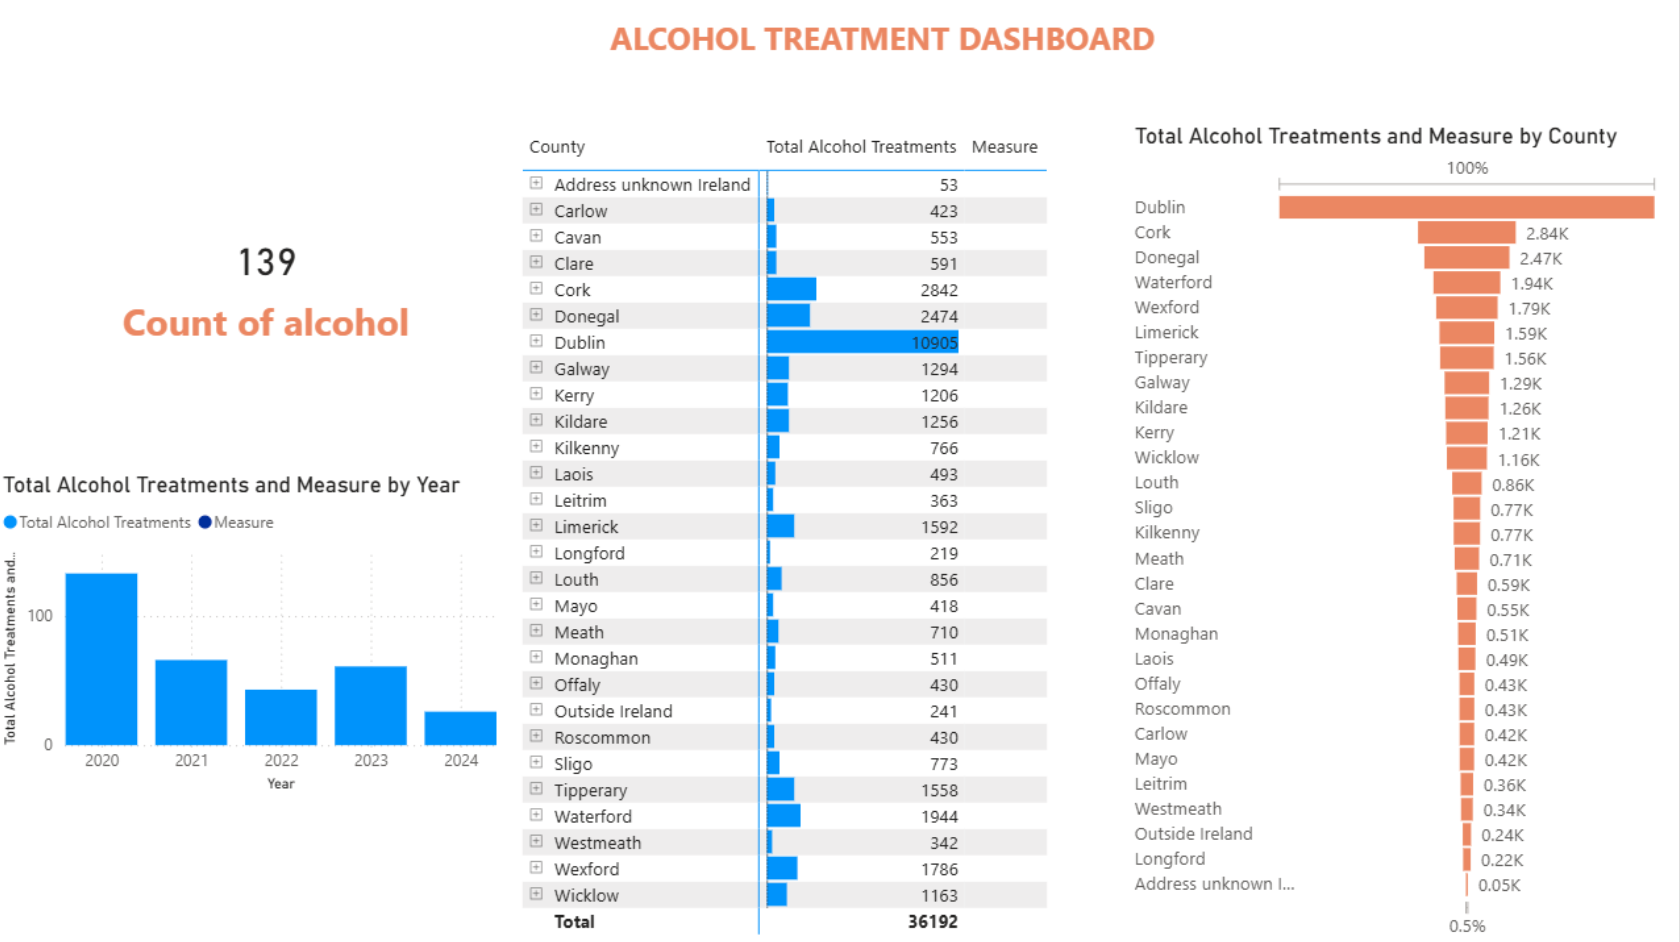

This screenshot's page, from the dashboard's own definition file:
{"tool":"powerbi","page":{"name":"Alcohol","canvas":[1280,720],"ordinal":1},"visuals":[{"type":"card","fields":{"Values":["Count(alcohol)"]},"box":[65.4,164.2,280.2,108.6],"z":0},{"type":"columnChart","fields":{"Category":["alcohol.Alcohol Treatment Count","alcohol.Year","alcohol.County"],"Y":["alcohol.Total Alcohol Treatments","alcohol.Measure"]},"box":[0,360.5,385.2,248.1],"z":1000},{"type":"funnel","fields":{"Category":["alcohol.County","alcohol.Alcohol Treatment Count","alcohol.Year"],"Y":["alcohol.Total Alcohol Treatments"]},"box":[860.5,95.1,409.9,624.7],"z":2000},{"type":"pivotTable","fields":{"Rows":["alcohol.County","alcohol.Alcohol Treatment Count","alcohol.Year"],"Values":["alcohol.Total Alcohol Treatments","alcohol.Measure"]},"box":[395.1,97.5,437,622.2],"z":3000},{"type":"textbox","box":[461.7,9.9,424.7,46.9],"z":4000}]}

Visuals, with their boxes in screenshot pixels (x1, y1, x2, y2), scaled from the page's 1280x720 canvas onto the 1680x942 screenshot:
card - Count(alcohol): [x1=86, y1=215, x2=454, y2=357]
columnChart - alcohol.Alcohol Treatment Count x alcohol.Year: [x1=0, y1=472, x2=506, y2=796]
funnel - alcohol.County x alcohol.Alcohol Treatment Count: [x1=1129, y1=124, x2=1667, y2=941]
pivotTable - alcohol.County x alcohol.Alcohol Treatment Count: [x1=519, y1=128, x2=1092, y2=941]
textbox: [x1=606, y1=13, x2=1163, y2=74]
